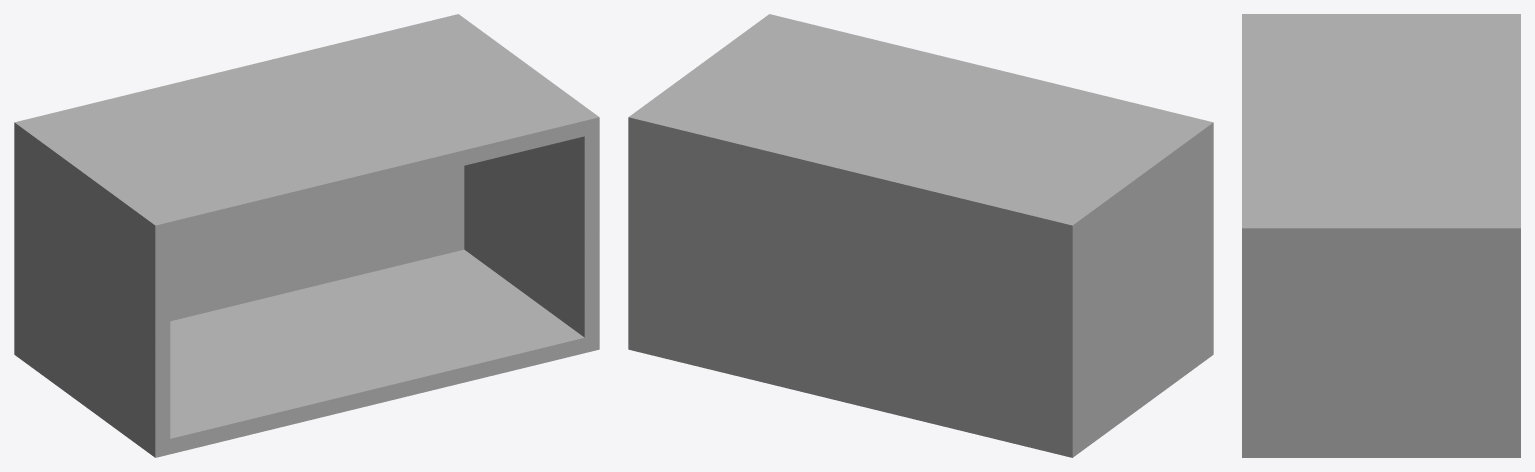
3 views of the same model, side by side, from view 1: azimuth 30°, elevation 25°; view 2: azimuth 150°, elevation 25°; view 3: azimuth 270°, elevation 25° (orthographic).
Parts seen in each view (by area): view 1: Box015; view 2: Box015; view 3: Box015.
Part boxes in pixels (box(x1,y1,x2,y2)): Box015: box(14, 14, 599, 457); Box015: box(628, 14, 1213, 457); Box015: box(1242, 14, 1520, 457).
Bounding box in the file's own units: 0.6 × 0.3 × 0.33.
1 material, 1 textured.
